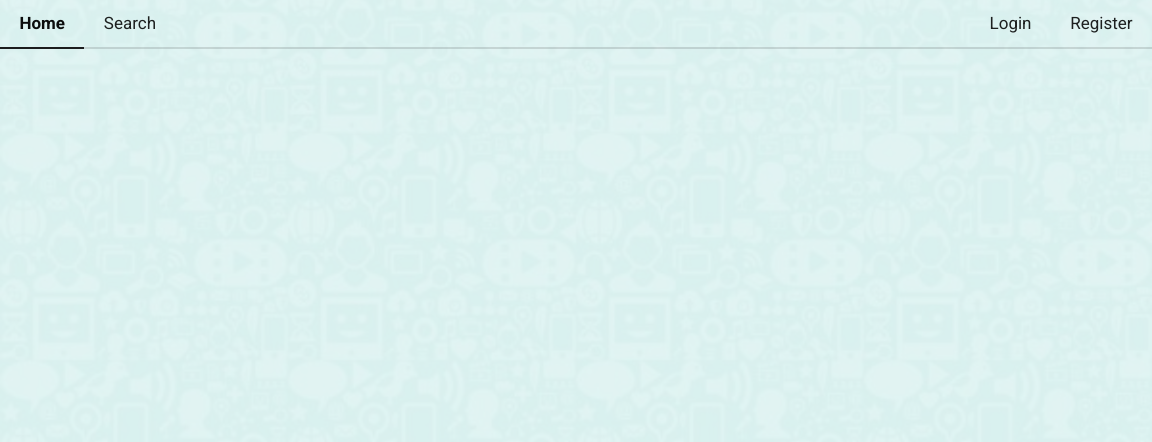
it: Login › Should fail login due to empty fields in form
Click the link "Login".
click(1011, 23)  # box [990, 13, 1032, 33]
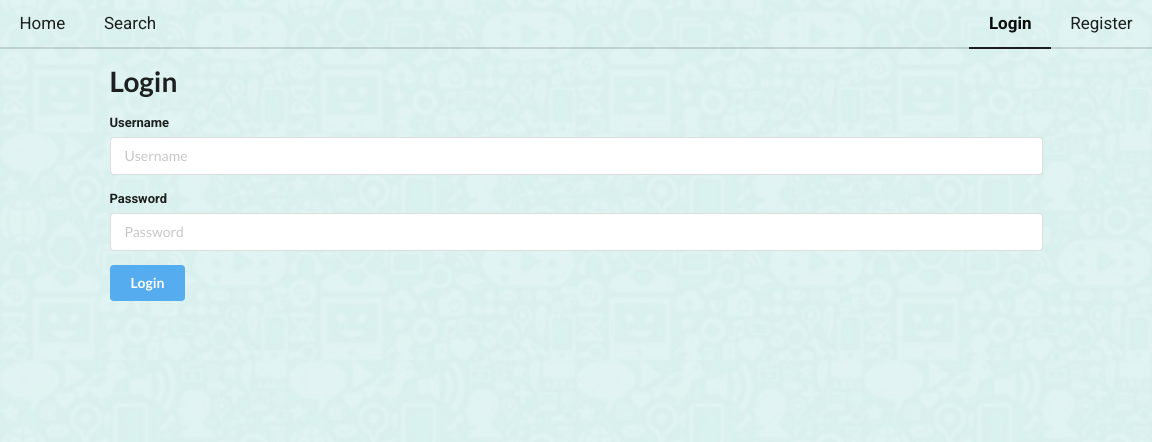
Expected: the link "Login" is shown, [970, 0, 1051, 48]
Click the button "Login".
click(148, 283)  # box [110, 265, 186, 301]
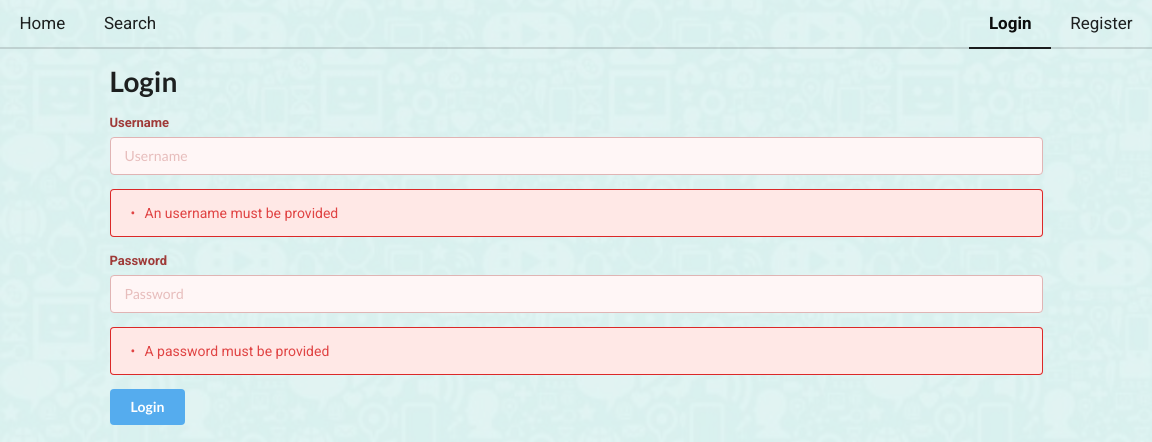
Expected: the list item "An username must be provided" is shown, [144, 205, 338, 221]
Expected: the list item "A password must be provided" is shown, [144, 343, 329, 359]
